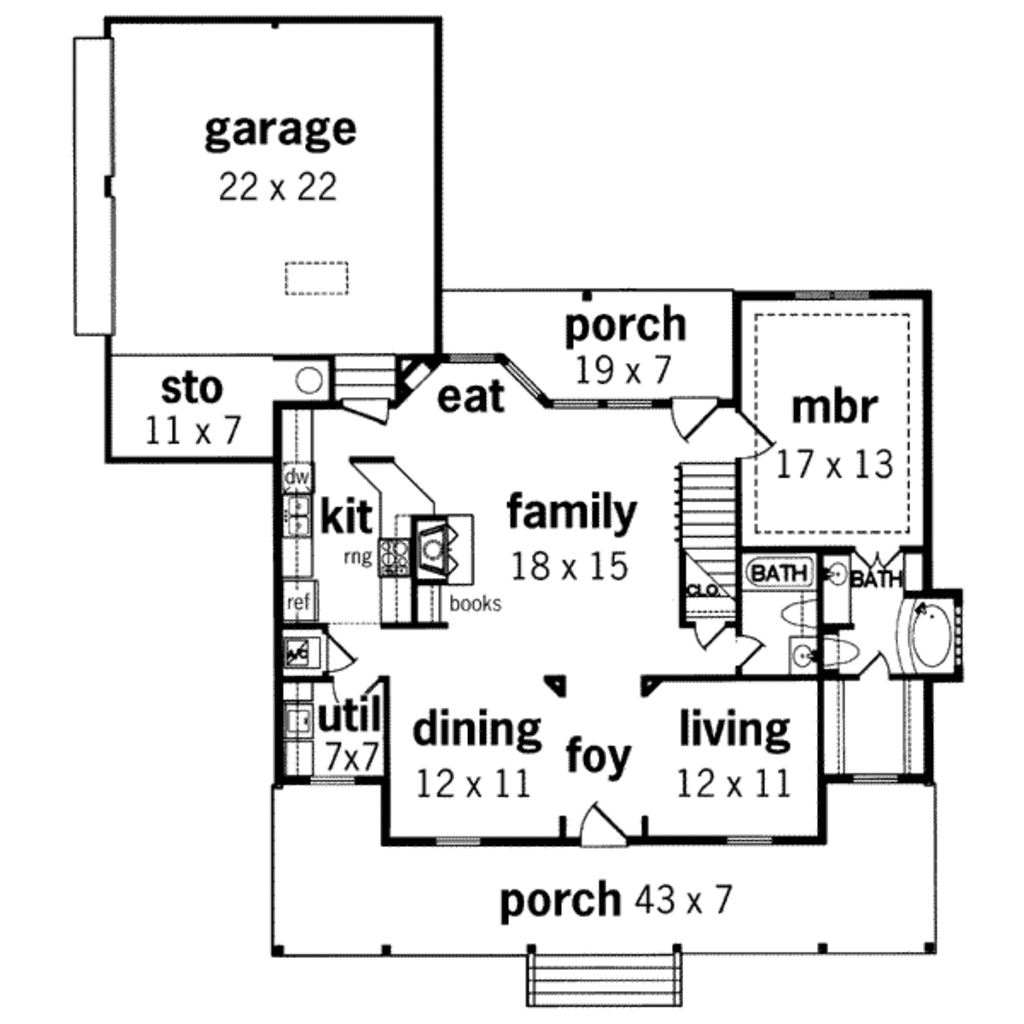door: (662, 393, 713, 451), (732, 406, 780, 460), (582, 803, 630, 846), (318, 632, 361, 671), (848, 651, 896, 676), (740, 641, 767, 674), (699, 619, 728, 646), (855, 544, 896, 562)
small_sink: (785, 632, 813, 679)
stairs: (671, 463, 744, 620)
tub: (744, 552, 820, 592)
twin_sink: (278, 493, 321, 544)
window: (798, 287, 869, 306)
